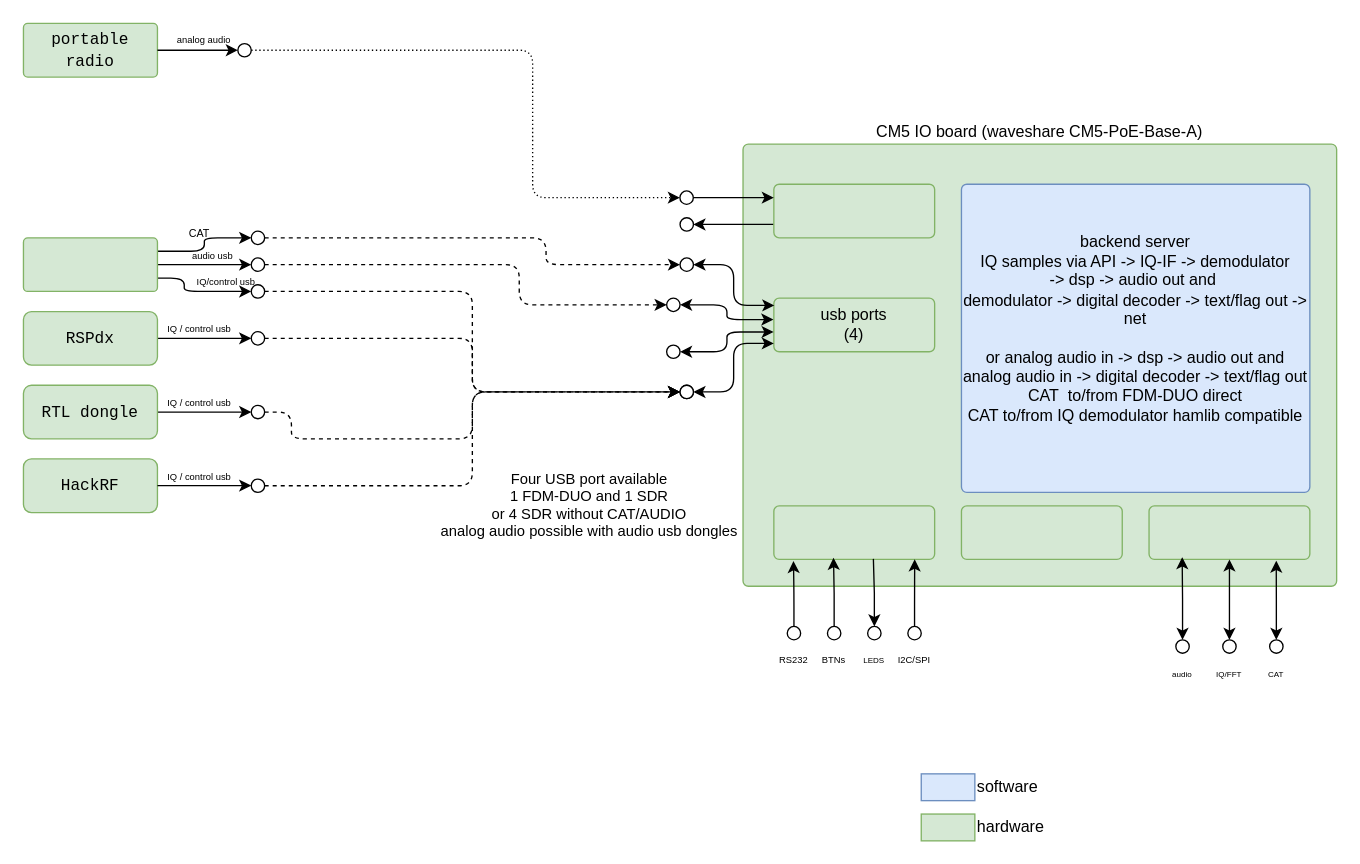
The diagram is 1360 pixels wide and 864 high, and some of its shapes have lost their labels. Here are the shapes that lost their labels. From the top down, the box of each, then its label:
(773, 183, 935, 238): audio hat dsp
(22, 237, 157, 291): FDM-DUO/trx
(773, 505, 935, 559): GPIO
(960, 505, 1122, 559): CM5 module
(1148, 505, 1310, 559): network phy
